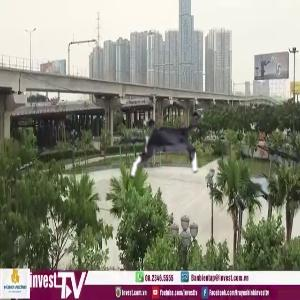drone: (125, 102, 212, 189)
